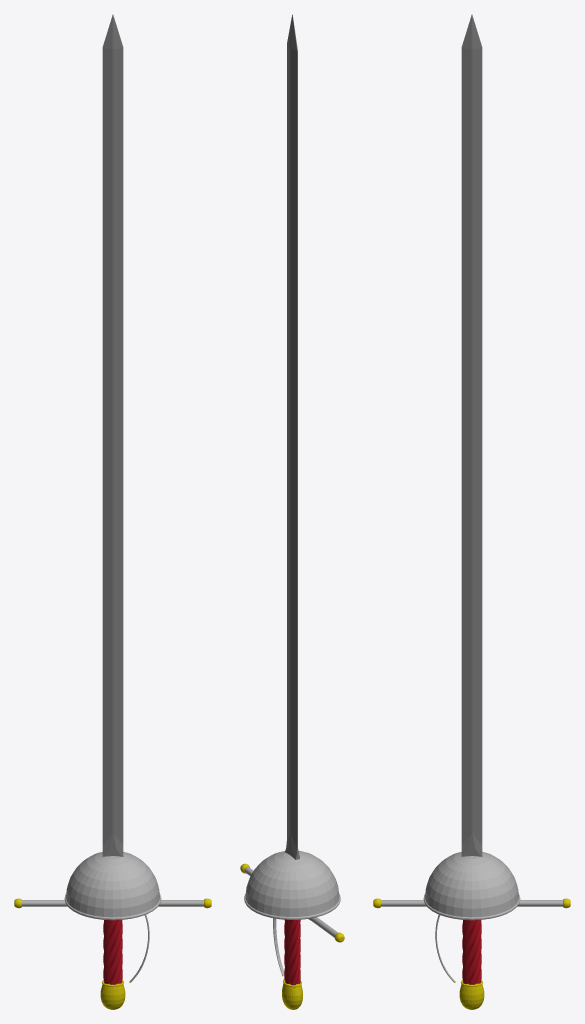
File: Rapier.fbx
The picture shows the model from 3 angles, left to right: view 1: azimuth 90°, elevation 25°; view 2: azimuth 210°, elevation 25°; view 3: azimuth 270°, elevation 25°; orthographic projection.
Visible parts, largest first — view 1: Sword; view 2: Sword; view 3: Sword.
Part boxes in pixels (<box>): Sword: <box>14,14,211,1009</box>; Sword: <box>240,14,344,1009</box>; Sword: <box>373,14,570,1009</box>.
Size of the model in its own units: 190 by 2162 by 389.
